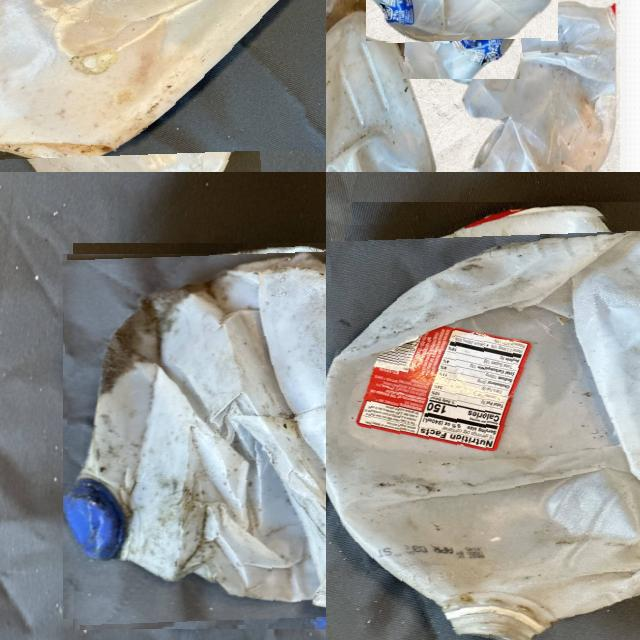milk-jug: (333, 214, 640, 640), (65, 245, 326, 627), (0, 0, 305, 172), (468, 0, 614, 172), (326, 23, 434, 172), (383, 0, 540, 61), (326, 0, 394, 109)
